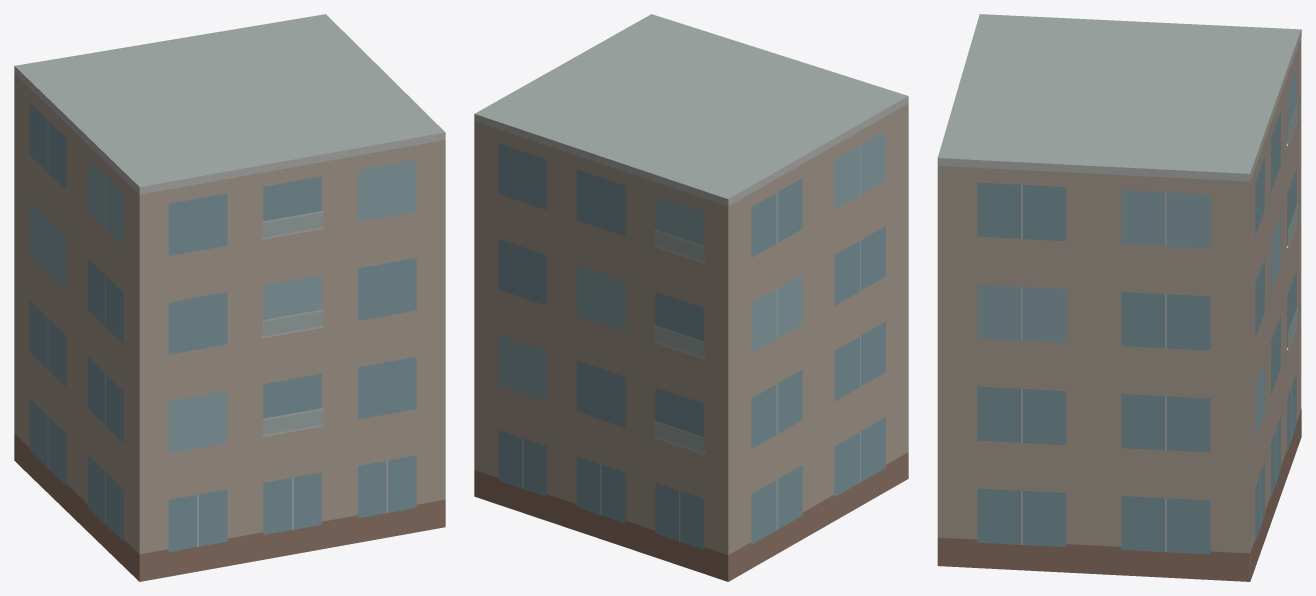
The model's file is survey-upis-32969476.glb.
The picture shows the model from 3 angles, left to right: view 1: azimuth 30°, elevation 25°; view 2: azimuth 150°, elevation 25°; view 3: azimuth 270°, elevation 25°; orthographic projection. The views are drawn at different scales.
Visible parts, largest first — view 1: survey-upis-32969476.tmp; view 2: survey-upis-32969476.tmp; view 3: survey-upis-32969476.tmp.
Part boxes in pixels (x1,y1,x2,y2): survey-upis-32969476.tmp: [14, 14, 445, 581]; survey-upis-32969476.tmp: [474, 14, 908, 581]; survey-upis-32969476.tmp: [937, 14, 1301, 581].
Bounding box in the file's own units: 10.77 × 12.8 × 10.35.
